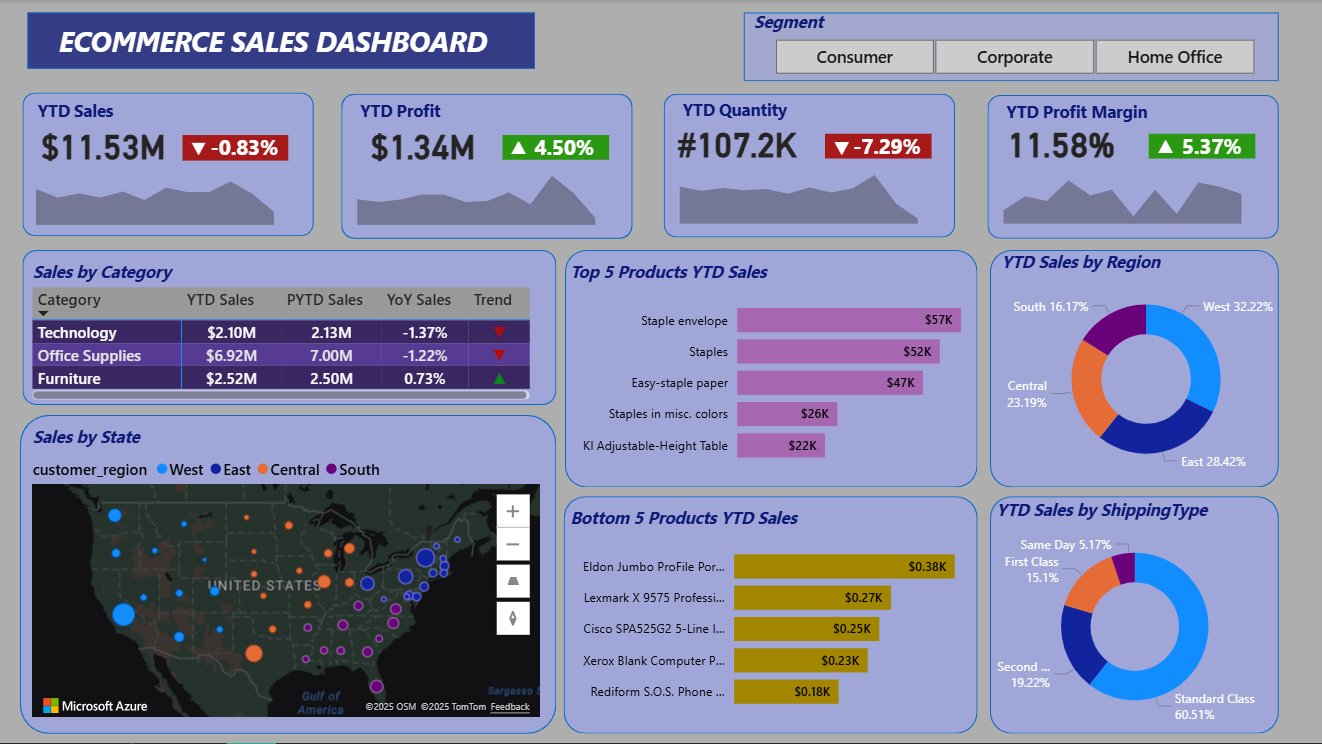

What the dashboard file says about the page in this screenshot:
{"tool":"powerbi","page":{"name":"Page 1","canvas":[1280,720],"ordinal":0},"visuals":[{"type":"shape","box":[21.8,89.6,282,139.2],"z":0},{"type":"shape","box":[176.3,130.5,102.5,24.6],"z":1000},{"type":"shape","box":[26.6,12.1,491.5,54.5],"z":2000},{"type":"card","fields":{"Values":["ecommerce_data_excel.YoY Sales"]},"box":[192.5,129.5,88.4,30.3],"z":3000},{"type":"textbox","box":[52.1,16.9,503.6,49.6],"z":4000},{"type":"card","fields":{"Values":["ecommerce_data_excel.YTD Sales"]},"box":[31.4,119.8,137.4,41.2],"z":5000},{"type":"areaChart","fields":{"Category":["Calendar.Month"],"Y":["Sum(ecommerce_data_excel.sales_per_order)"]},"box":[22.2,155.1,257.2,68.1],"z":6000},{"type":"card","fields":{"Values":["ecommerce_data_excel.Sales Icon"]},"box":[171.9,129.5,41.2,24.2],"z":7000},{"type":"textbox","box":[31.5,90.8,95.6,31.5],"z":8000},{"type":"shape","box":[330.5,90.8,282,140.4],"z":9000},{"type":"shape","box":[486.6,130.7,102.9,24.2],"z":10000},{"type":"card","fields":{"Values":["ecommerce_data_excel.YoY Profit"]},"box":[502.7,129.8,88.4,30.3],"z":11000},{"type":"card","fields":{"Values":["ecommerce_data_excel.YTD Profit"]},"box":[332.9,118.6,153.7,43.6],"z":12000},{"type":"areaChart","fields":{"Category":["Calendar.Month"],"Y":["Sum(ecommerce_data_excel.profit_per_order)"]},"box":[332.5,155.4,257.2,68.1],"z":13000},{"type":"card","fields":{"Values":["ecommerce_data_excel.Profit Icon"]},"box":[486.6,128.3,31.5,24.2],"z":14000},{"type":"textbox","box":[343.8,90.8,95.6,31.5],"z":15000},{"type":"shape","box":[642.8,90.8,282,139.2],"z":16000},{"type":"shape","box":[798.8,129.1,102.9,24.2],"z":17000},{"type":"card","fields":{"Values":["ecommerce_data_excel.YoY Qty"]},"box":[814.8,128.2,88.4,30.3],"z":18000},{"type":"card","fields":{"Values":["ecommerce_data_excel.YTD Conacatenated Qty"]},"box":[645,117,138,41.2],"z":19000},{"type":"areaChart","fields":{"Category":["Calendar.Month"],"Y":["Sum(ecommerce_data_excel.order_quantity)"]},"box":[644.6,153.8,257.2,68.1],"z":20000},{"type":"card","fields":{"Values":["ecommerce_data_excel.Qty Icon"]},"box":[796.5,129.5,37.5,31.5],"z":21000},{"type":"textbox","box":[656.1,89.6,128.3,32.7],"z":22000},{"type":"shape","box":[956.3,92,282,139.2],"z":23000},{"type":"shape","box":[1112.8,129.4,102.9,24.2],"z":24000},{"type":"card","fields":{"Values":["ecommerce_data_excel.YoY Profit Margin"]},"box":[1128.9,128.5,88.4,30.3],"z":25000},{"type":"card","fields":{"Values":["ecommerce_data_excel.YTD Profit Margin"]},"box":[959.1,117.3,138,41.2],"z":26000},{"type":"areaChart","fields":{"Category":["Calendar.Month"],"Y":["ecommerce_data_excel.Profit Margin"]},"box":[958.7,154.1,257.2,68.1],"z":27000},{"type":"card","fields":{"Values":["ecommerce_data_excel.Profit Icon"]},"box":[1110,128.3,37.5,31.5],"z":28000},{"type":"textbox","box":[969.6,92,236,36.3],"z":29000},{"type":"shape","box":[21.8,242.1,516.9,150.1],"z":30000},{"type":"pivotTable","title":"Sales by Category","fields":{"Rows":["ecommerce_data_excel.category_name"],"Values":["ecommerce_data_excel.YTD Sales","ecommerce_data_excel.PYTD Sales","ecommerce_data_excel.YoY Sales","ecommerce_data_excel.Sales Icon"]},"box":[26.6,251.8,491.5,140.4],"z":31000},{"type":"shape","box":[19.4,401.9,519.3,308.7],"z":32000},{"type":"azureMap","title":"Sales by State","fields":{"Y":["us_state_long_lat_codes.latitude"],"X":["us_state_long_lat_codes.longitude"],"Size":["ecommerce_data_excel.YTD Sales"],"Series":["ecommerce_data_excel.customer_region"]},"box":[26.6,411.6,501.1,288.1],"z":33000},{"type":"shape","box":[547.1,242.1,399.5,230],"z":34000},{"type":"shape","box":[545.9,480.6,400.7,230],"z":35000},{"type":"barChart","title":"Top 5 Products YTD Sales","fields":{"Category":["ecommerce_data_excel.product_name"],"Y":["ecommerce_data_excel.YTD Sales"]},"box":[547.1,251.8,433.4,209.4],"z":36000},{"type":"barChart","title":"Bottom 5 Products YTD Sales","fields":{"Category":["ecommerce_data_excel.product_name"],"Y":["ecommerce_data_excel.YTD Sales"]},"box":[547.1,490.3,422.5,209.4],"z":37000},{"type":"shape","box":[958.7,242.1,279.6,230],"z":38000},{"type":"shape","box":[958.7,480.6,279.6,230],"z":39000},{"type":"donutChart","title":"YTD Sales by Region","fields":{"Category":["ecommerce_data_excel.customer_region"],"Y":["ecommerce_data_excel.YTD Sales"]},"box":[964.8,242.1,290.5,228.8],"z":40000},{"type":"donutChart","title":"YTD Sales by ShippingType","fields":{"Y":["ecommerce_data_excel.YTD Sales"],"Category":["ecommerce_data_excel.shipping_type"]},"box":[959.9,481.8,278.4,228.8],"z":41000},{"type":"shape","box":[720.2,12.1,518.1,66.6],"z":42000},{"type":"slicer","title":"Segment","fields":{"Values":["ecommerce_data_excel.customer_segment"]},"box":[725.1,9.7,513.3,69],"z":43000}]}

Visuals, with their boxes in screenshot pixels (x1, y1, x2, y2), scaled from the page's 1280x720 canvas onto the 1322x744 screenshot:
shape: <bbox>23, 93, 314, 236</bbox>
shape: <bbox>182, 135, 288, 160</bbox>
shape: <bbox>27, 13, 535, 69</bbox>
card - ecommerce_data_excel.YoY Sales: <bbox>199, 134, 290, 165</bbox>
textbox: <bbox>54, 17, 574, 69</bbox>
card - ecommerce_data_excel.YTD Sales: <bbox>32, 124, 174, 166</bbox>
areaChart - Calendar.Month x Sum(ecommerce_data_excel.sales_per_order): <bbox>23, 160, 289, 231</bbox>
card - ecommerce_data_excel.Sales Icon: <bbox>178, 134, 220, 159</bbox>
textbox: <bbox>33, 94, 131, 126</bbox>
shape: <bbox>341, 94, 633, 239</bbox>
shape: <bbox>503, 135, 609, 160</bbox>
card - ecommerce_data_excel.YoY Profit: <bbox>519, 134, 610, 165</bbox>
card - ecommerce_data_excel.YTD Profit: <bbox>344, 123, 503, 168</bbox>
areaChart - Calendar.Month x Sum(ecommerce_data_excel.profit_per_order): <bbox>343, 161, 609, 231</bbox>
card - ecommerce_data_excel.Profit Icon: <bbox>503, 133, 535, 158</bbox>
textbox: <bbox>355, 94, 454, 126</bbox>
shape: <bbox>664, 94, 955, 238</bbox>
shape: <bbox>825, 133, 931, 158</bbox>
card - ecommerce_data_excel.YoY Qty: <bbox>842, 132, 933, 164</bbox>
card - ecommerce_data_excel.YTD Conacatenated Qty: <bbox>666, 121, 809, 163</bbox>
areaChart - Calendar.Month x Sum(ecommerce_data_excel.order_quantity): <bbox>666, 159, 931, 229</bbox>
card - ecommerce_data_excel.Qty Icon: <bbox>823, 134, 861, 166</bbox>
textbox: <bbox>678, 93, 810, 126</bbox>
shape: <bbox>988, 95, 1279, 239</bbox>
shape: <bbox>1149, 134, 1256, 159</bbox>
card - ecommerce_data_excel.YoY Profit Margin: <bbox>1166, 133, 1257, 164</bbox>
card - ecommerce_data_excel.YTD Profit Margin: <bbox>991, 121, 1133, 164</bbox>
areaChart - Calendar.Month x ecommerce_data_excel.Profit Margin: <bbox>990, 159, 1256, 230</bbox>
card - ecommerce_data_excel.Profit Icon: <bbox>1146, 133, 1185, 165</bbox>
textbox: <bbox>1001, 95, 1245, 133</bbox>
shape: <bbox>23, 250, 556, 405</bbox>
"Sales by Category" pivotTable: <bbox>27, 260, 535, 405</bbox>
shape: <bbox>20, 415, 556, 734</bbox>
"Sales by State" azureMap: <bbox>27, 425, 545, 723</bbox>
shape: <bbox>565, 250, 978, 488</bbox>
shape: <bbox>564, 497, 978, 734</bbox>
"Top 5 Products YTD Sales" barChart: <bbox>565, 260, 1013, 477</bbox>
"Bottom 5 Products YTD Sales" barChart: <bbox>565, 507, 1001, 723</bbox>
shape: <bbox>990, 250, 1279, 488</bbox>
shape: <bbox>990, 497, 1279, 734</bbox>
"YTD Sales by Region" donutChart: <bbox>996, 250, 1296, 487</bbox>
"YTD Sales by ShippingType" donutChart: <bbox>991, 498, 1279, 734</bbox>
shape: <bbox>744, 13, 1279, 81</bbox>
"Segment" slicer: <bbox>749, 10, 1279, 81</bbox>
